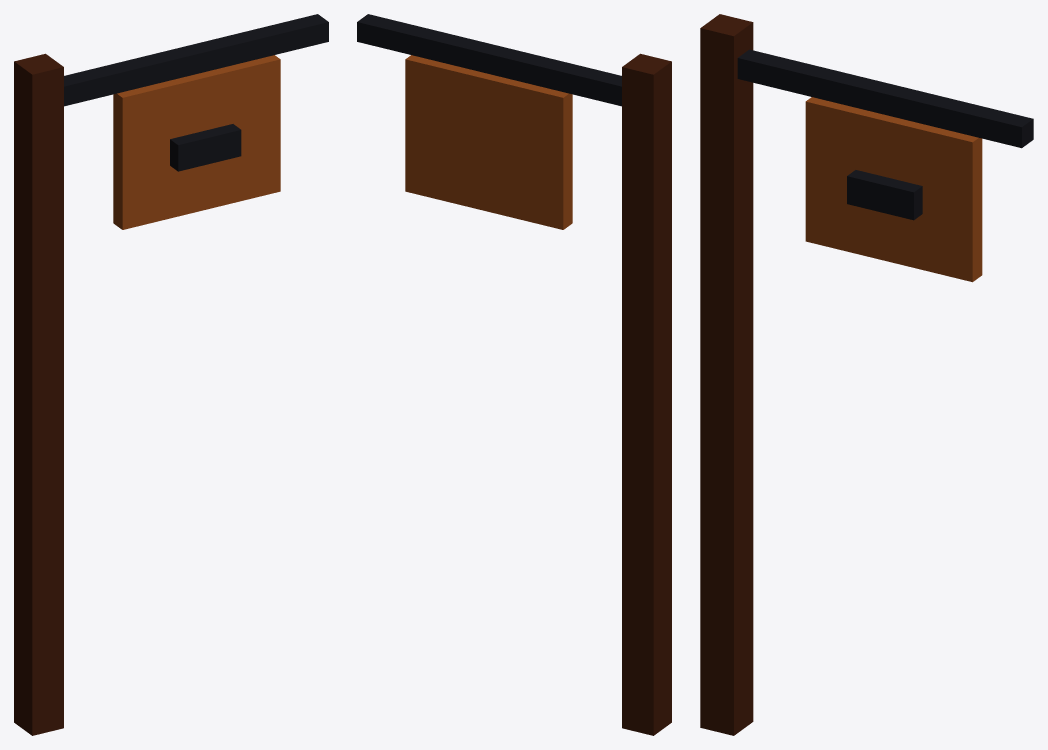
File: smithy_sign.obj
The picture shows the model from 3 angles, left to right: view 1: azimuth 30°, elevation 25°; view 2: azimuth 150°, elevation 25°; view 3: azimuth 330°, elevation 25°; orthographic projection. The views are drawn at different scales.
Visible parts, largest first — view 1: smithy_sign; view 2: smithy_sign; view 3: smithy_sign.
Part boxes in pixels (x1,y1,x2,y2): smithy_sign: (14,14,328,735); smithy_sign: (357,14,671,735); smithy_sign: (700,14,1033,735).
Size of the model in its own units: 0.95 by 2 by 0.12.
